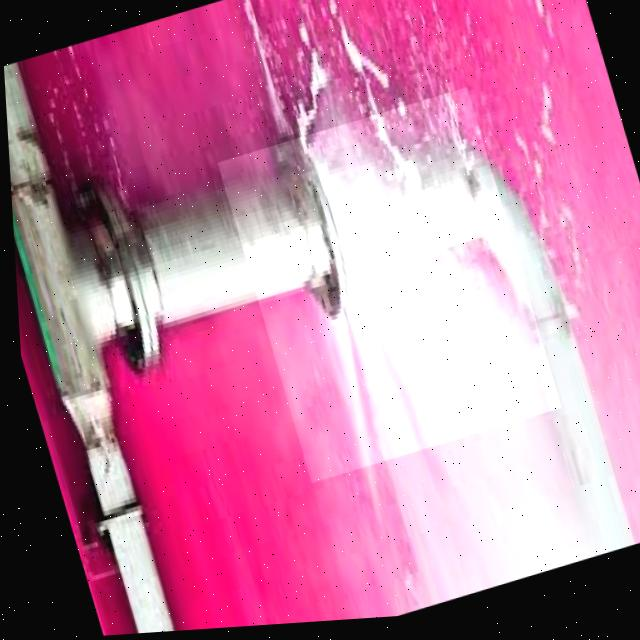corrosion: (204, 98, 504, 395)
